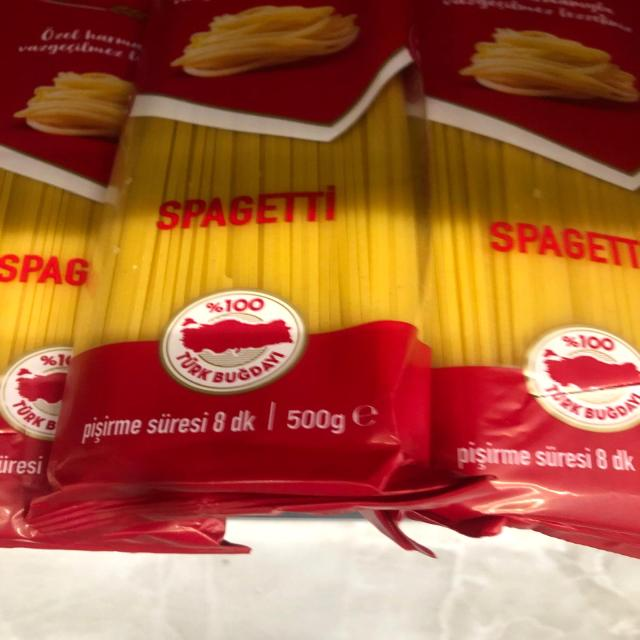spaghetti: (41, 0, 431, 491), (412, 0, 640, 509)
